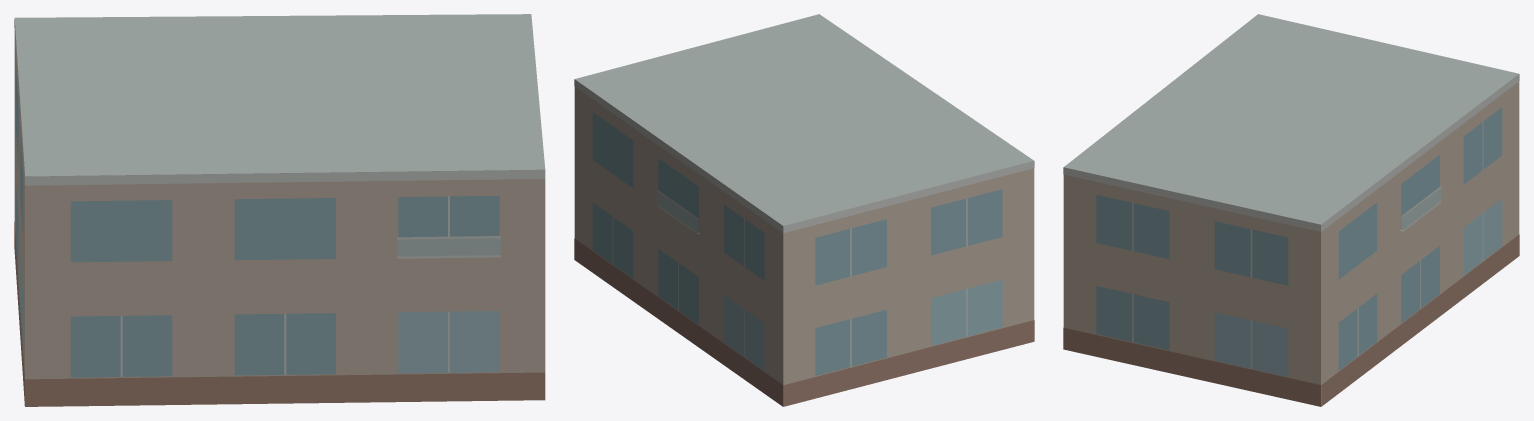
Rendered from survey-upis-32910236.glb.
The picture shows the model from 3 angles, left to right: view 1: azimuth 30°, elevation 25°; view 2: azimuth 150°, elevation 25°; view 3: azimuth 270°, elevation 25°; orthographic projection. The views are drawn at different scales.
Parts seen in each view (by area): view 1: survey-upis-32910236.tmp; view 2: survey-upis-32910236.tmp; view 3: survey-upis-32910236.tmp.
Part boxes in pixels (x1=…): survey-upis-32910236.tmp: x1=14, y1=14, x2=545, y2=406; survey-upis-32910236.tmp: x1=574, y1=14, x2=1034, y2=406; survey-upis-32910236.tmp: x1=1063, y1=14, x2=1519, y2=406.
Size of the model in its own units: 15.14 by 6.1 by 13.85.
